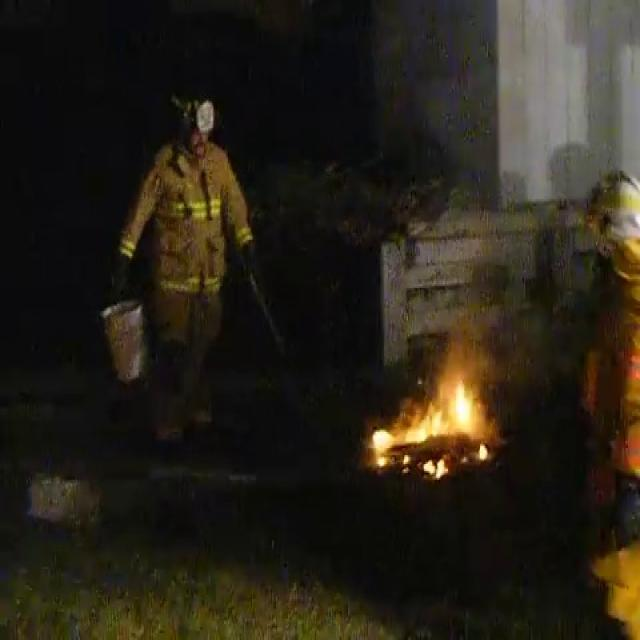Fire: (376, 361, 488, 476)
